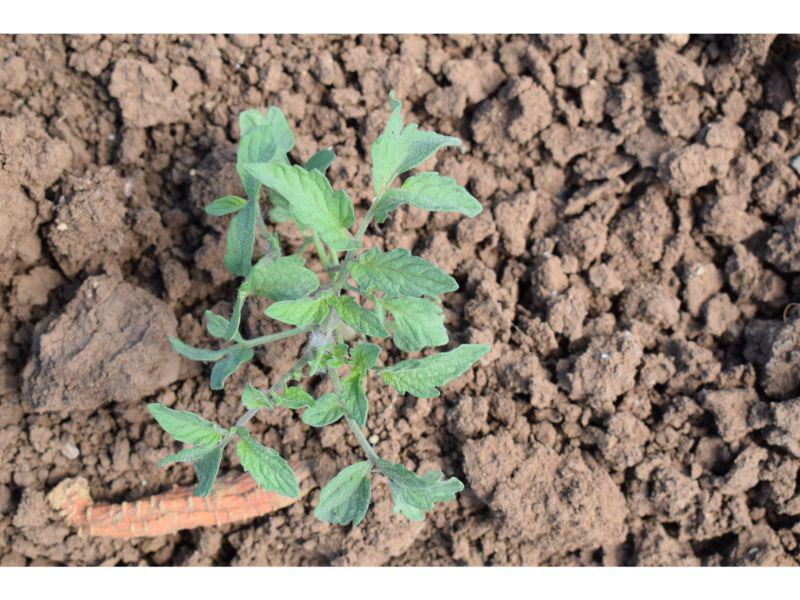tomato: (149, 102, 492, 531)
